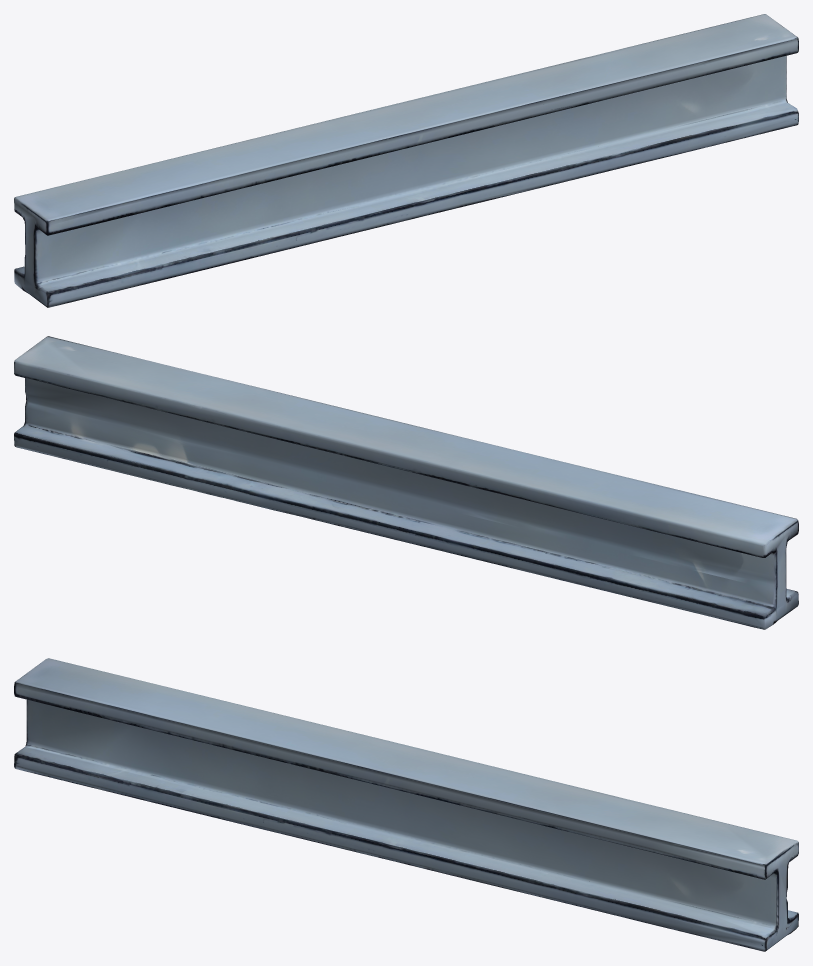
The picture shows the model from 3 angles, top to bottom: view 1: azimuth 30°, elevation 25°; view 2: azimuth 150°, elevation 25°; view 3: azimuth 330°, elevation 25°; orthographic projection.
Parts seen in each view (by area): view 1: tripo_node_811469a5; view 2: tripo_node_811469a5; view 3: tripo_node_811469a5.
Part boxes in pixels (x1,y1,x2,y2): tripo_node_811469a5: (14,14,798,307); tripo_node_811469a5: (14,336,798,629); tripo_node_811469a5: (14,658,798,951).
Size of the model in its own units: 1 by 0.112 by 0.079.
